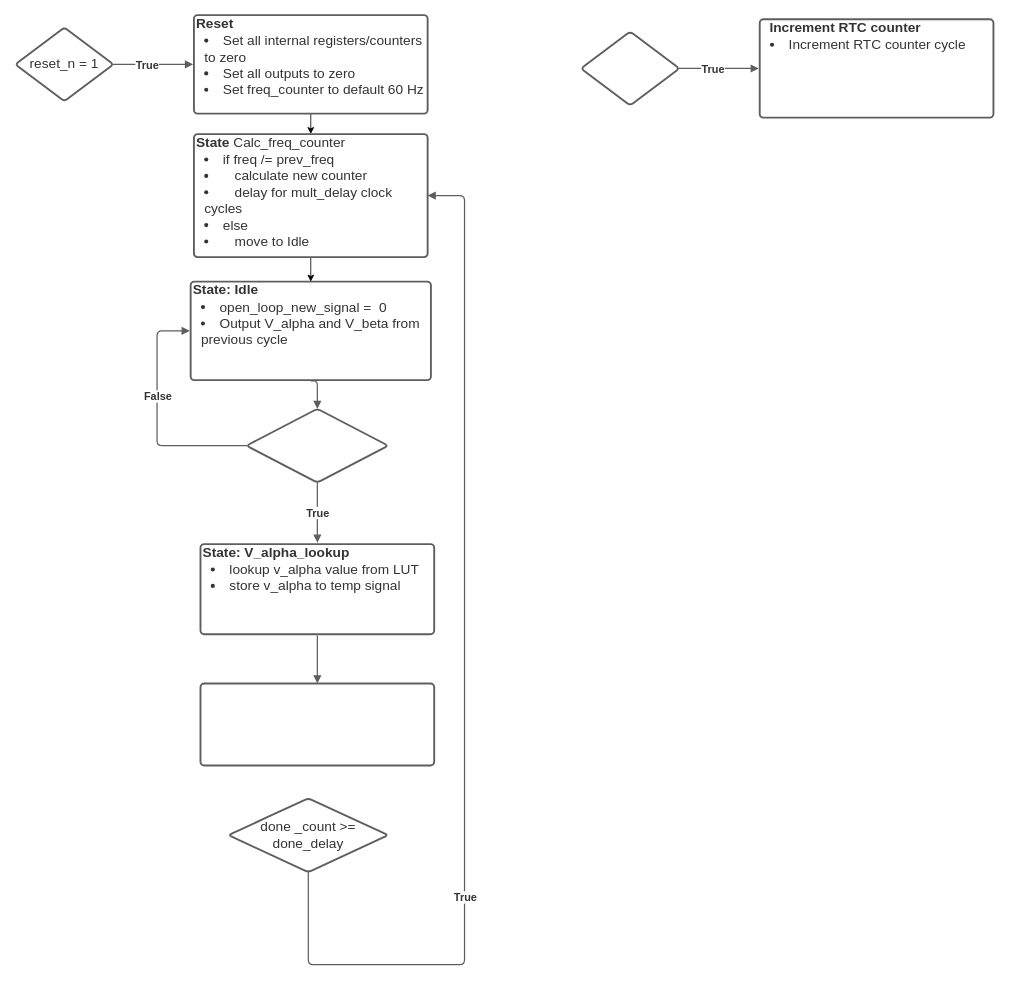
The diagram is 1009 pixels wide and 986 high, and some of its shapes have lost their labels. Here are the shapes that lost their labels. From the top down, the centre of each, then its label:
At point (630, 68): "en = 1".
At point (317, 445): "counter >= count_ref".
At point (317, 724): "State: V_beta_lookup Lookup v_beta from LUT Output V_beta Output V_alpha".
